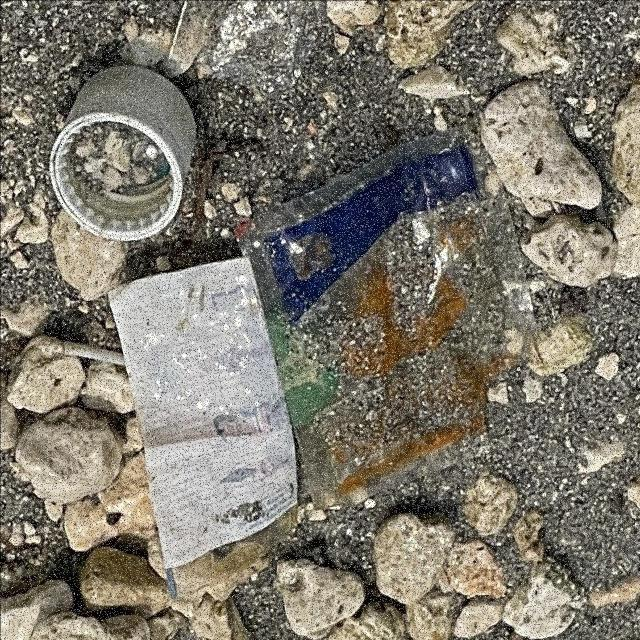plastic_waste: (234, 120, 542, 514), (104, 254, 300, 570), (49, 64, 199, 244)
